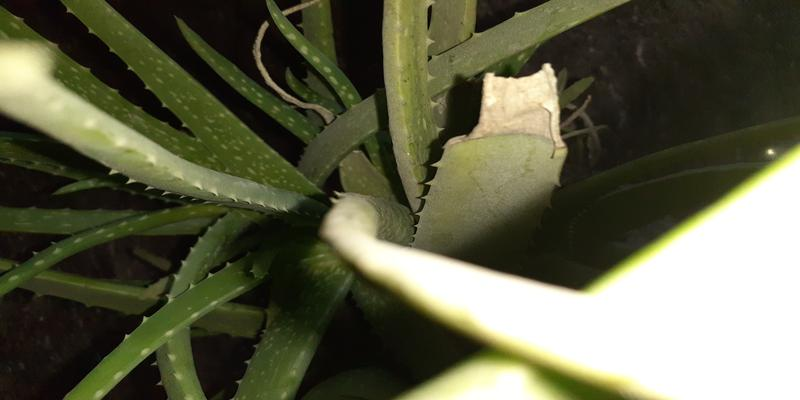Aloevera: (109, 43, 677, 370)
